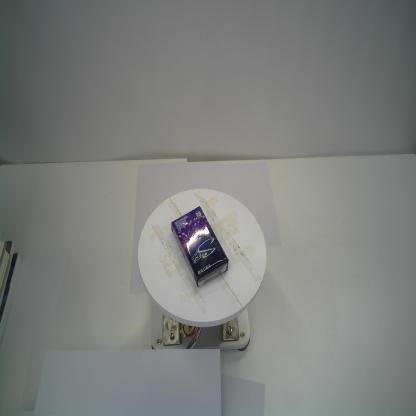Gum: (169, 204, 230, 288)
